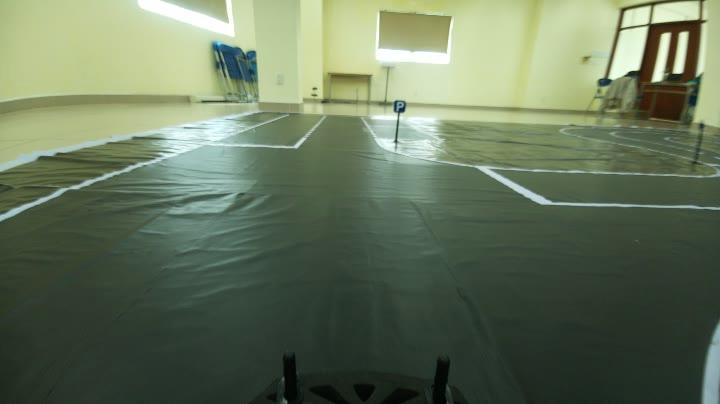parking: (391, 99, 410, 116)
